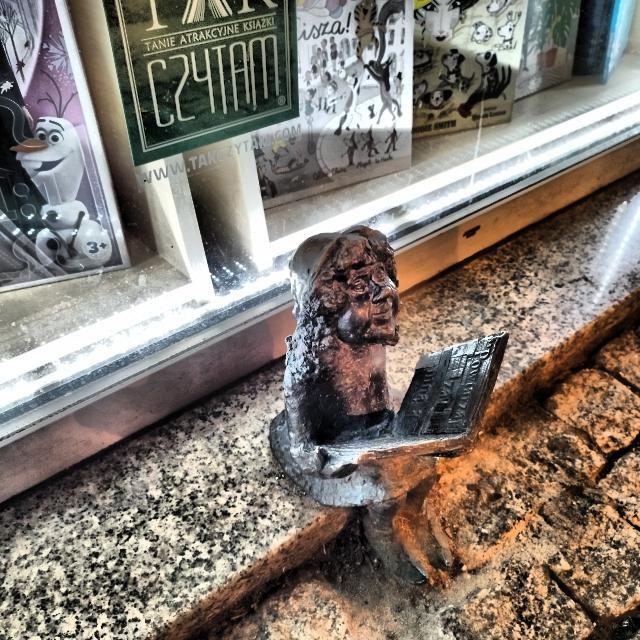Ksiegarka: (252, 222, 522, 616)
